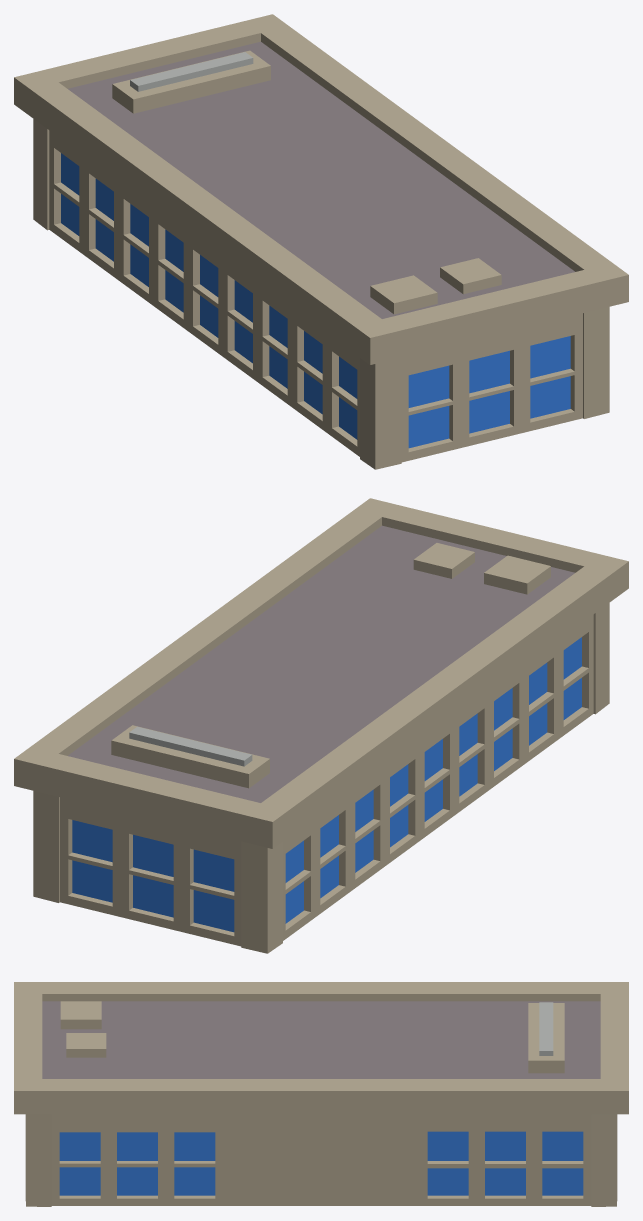
The model's file is building_1x2_3_r.glb.
The picture shows the model from 3 angles, top to bottom: view 1: azimuth 30°, elevation 25°; view 2: azimuth 150°, elevation 25°; view 3: azimuth 270°, elevation 25°; orthographic projection. The views are drawn at different scales.
Parts seen in each view (by area): view 1: SecomdFloor; view 2: SecomdFloor; view 3: SecomdFloor.
Boxes of the visible parts, left/top/right/bottom form: SecomdFloor: left=14, top=14, right=628, bottom=469; SecomdFloor: left=14, top=498, right=628, bottom=953; SecomdFloor: left=14, top=982, right=628, bottom=1206.
Bounding box in the file's own units: 1.44 × 0.8071 × 3.44.
